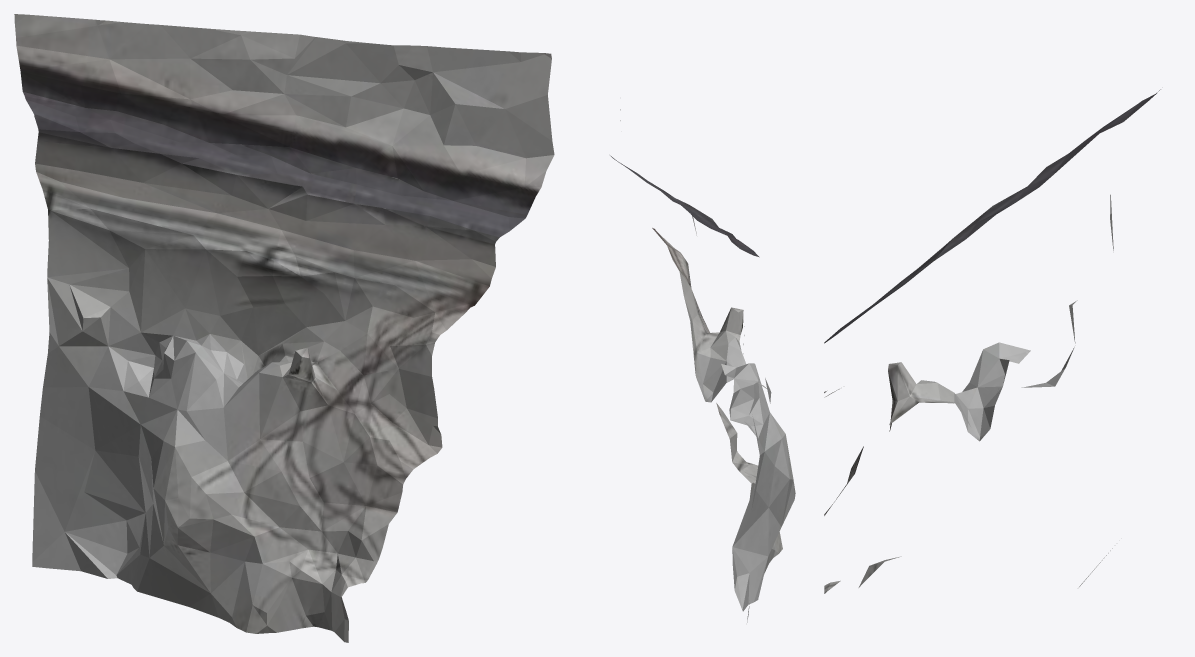
The picture shows the model from 3 angles, left to right: view 1: azimuth 30°, elevation 25°; view 2: azimuth 150°, elevation 25°; view 3: azimuth 270°, elevation 25°; orthographic projection. The views are drawn at different scales.
Bounding box in the file's own units: 0.5927 × 0.8374 × 0.4921.
Materials: 2 (2 with a texture image).
